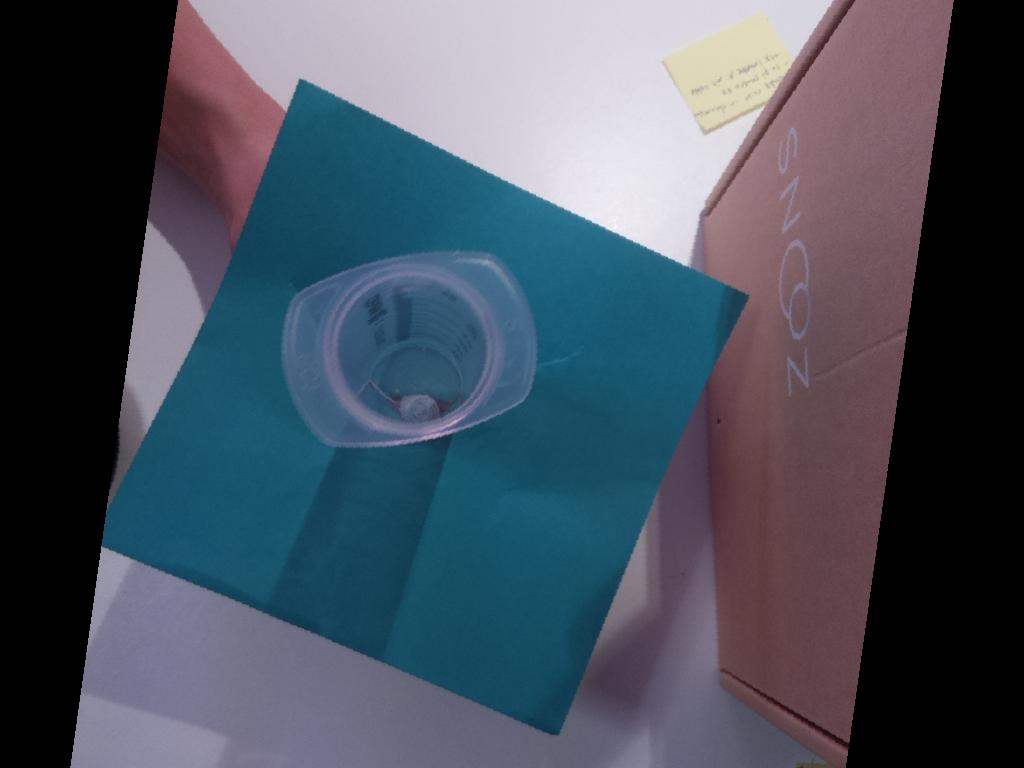clean: (281, 247, 538, 451)
